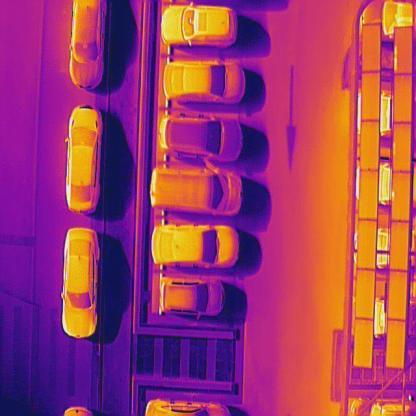Hotspot: (391, 170, 411, 221), (394, 28, 414, 76)
Normal: (355, 268, 376, 321), (388, 270, 409, 321), (360, 120, 380, 172), (390, 221, 410, 273), (358, 168, 378, 219), (353, 320, 374, 368), (362, 24, 382, 74), (394, 74, 414, 123), (392, 124, 412, 172), (386, 321, 406, 368), (358, 220, 376, 271), (362, 72, 380, 121)
